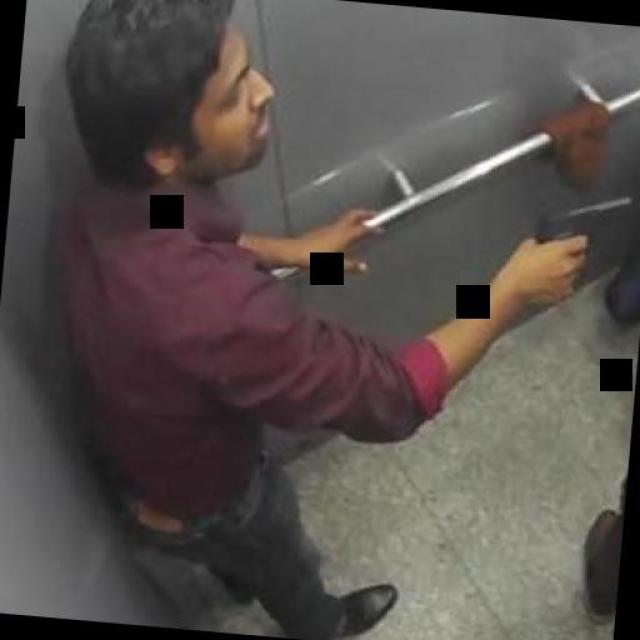gun: (526, 188, 632, 302)
